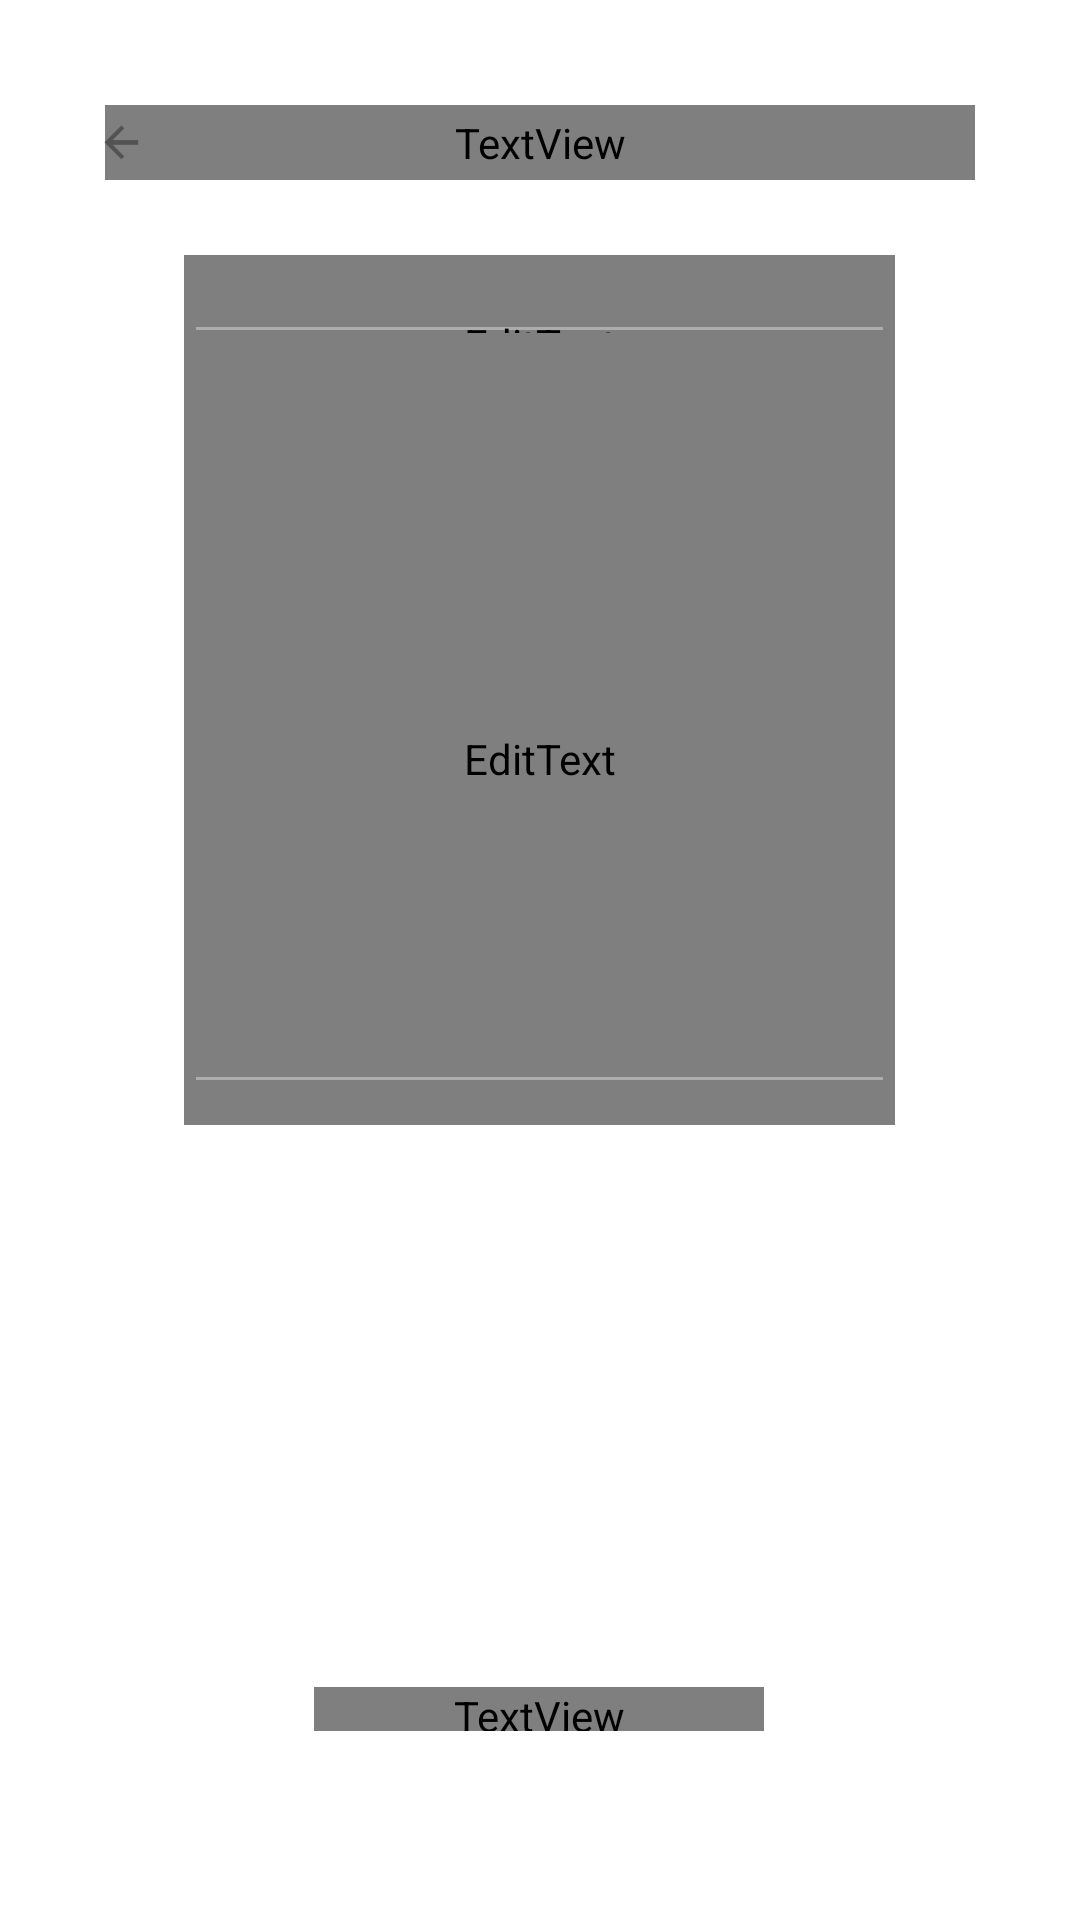

Where to tap for icons on this 1080*1920 app screen, as (x,y):
back arrow: (143,142)
